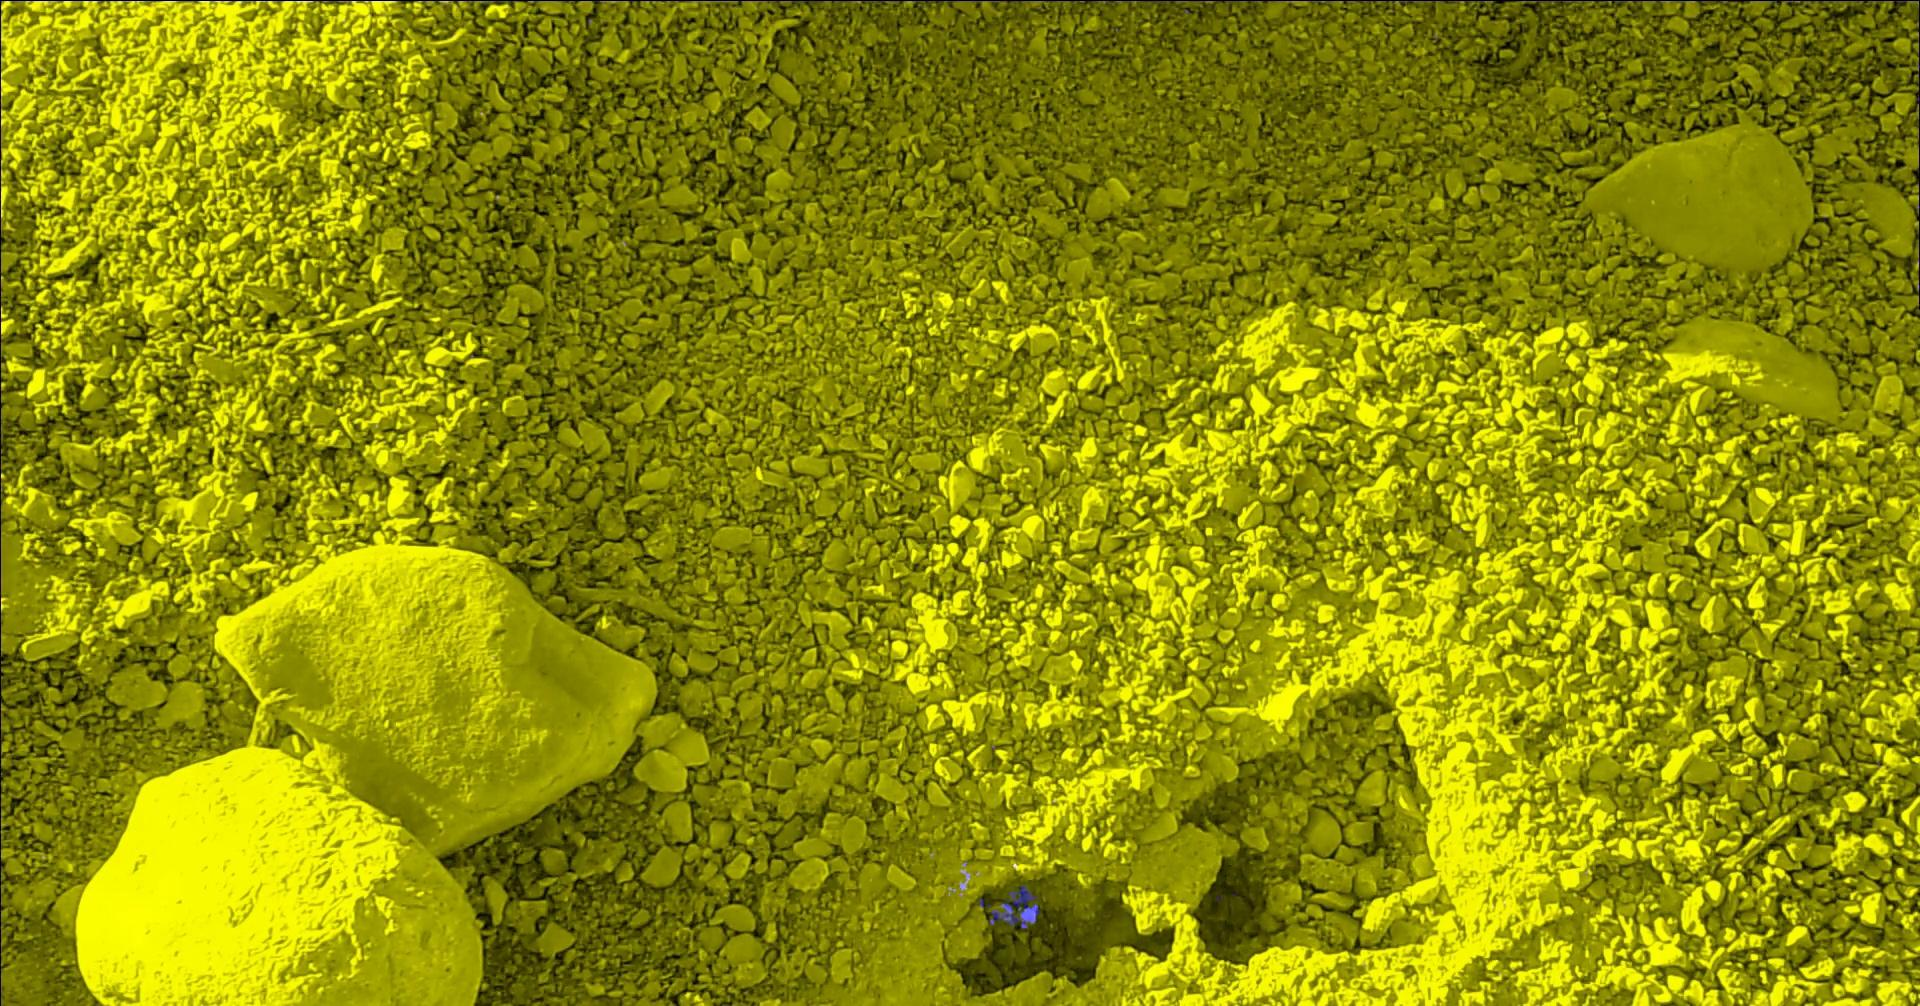ant: (978, 884, 1039, 929), (1782, 0, 1883, 3), (1342, 0, 1483, 1), (1515, 0, 1642, 1), (1211, 0, 1275, 1), (1121, 0, 1175, 1)
